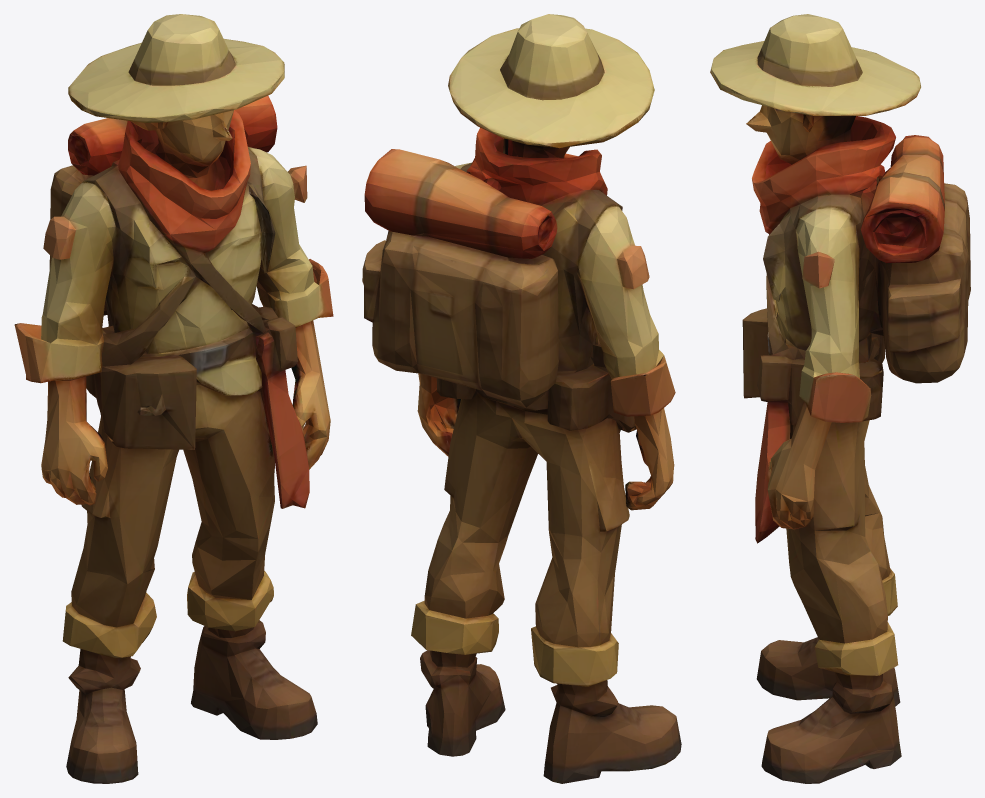
The model's file is ranger_grassland.glb.
The picture shows the model from 3 angles, left to right: view 1: azimuth 30°, elevation 25°; view 2: azimuth 150°, elevation 25°; view 3: azimuth 270°, elevation 25°; orthographic projection. The views are drawn at different scales.
Visible parts, largest first — view 1: world; view 2: world; view 3: world.
Boxes of the visible parts, x1,y1,x2,y2 form: world: (14,14,333,783); world: (362,14,681,783); world: (710,14,970,783).
Bounding box in the file's own units: 0.4175 × 0.9993 × 0.3361.
Materials: 1 (1 with a texture image).
